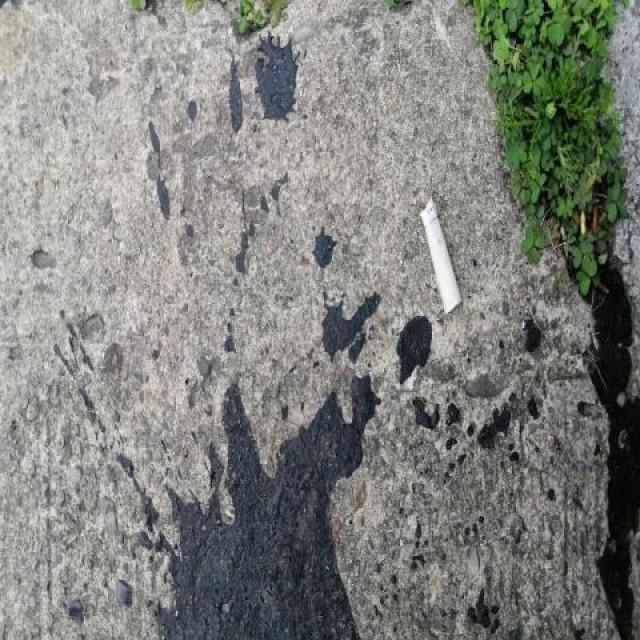non-organic waste: (414, 187, 466, 320)
